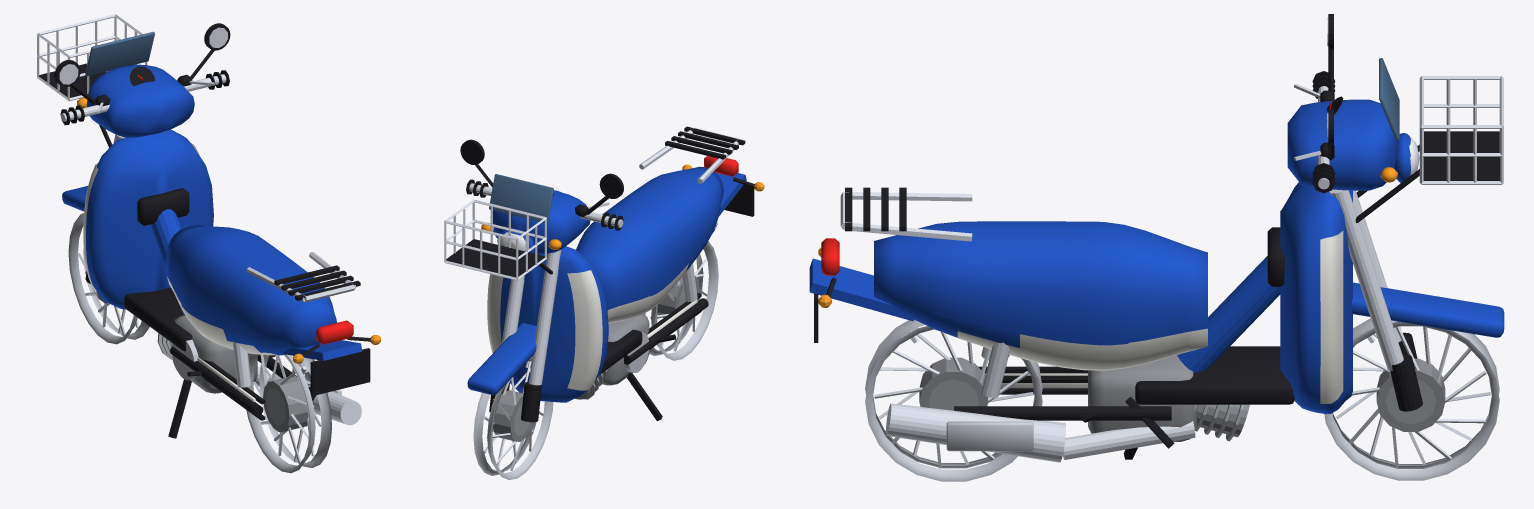
Rendered from veh_kapcai.fbx.
The picture shows the model from 3 angles, left to right: view 1: azimuth 30°, elevation 25°; view 2: azimuth 150°, elevation 25°; view 3: azimuth 270°, elevation 25°; orthographic projection. The views are drawn at different scales.
Parts seen in each view (by area): view 1: Body, Detail, Steering, Rim_R, Var_Basket_a_Front, Rim_F, SteerDetail, Var_Visor_a_Glass; view 2: Body, Steering, Detail, Var_Basket_a_Front, Rim_F, Rim_R, Var_Visor_a_Glass, SteerDetail, HeadLights; view 3: Body, Steering, Detail, Rim_F, Rim_R, Var_Basket_a_Front, SteerDetail, HeadLights, Var_Visor_a_Glass.
Part boxes in pixels (x1,y1,x2,y2): Body: (86,129,362,425); Detail: (83,143,380,438); Steering: (54,23,230,283); Rim_R: (246,353,331,473); Var_Basket_a_Front: (37,14,147,147); Rim_F: (68,213,149,344); SteerDetail: (59,27,229,125); Var_Visor_a_Glass: (85,31,154,76); Body: (500,166,746,402); Steering: (460,139,623,422); Detail: (487,126,764,420); Var_Basket_a_Front: (444,199,552,280); Rim_F: (473,357,553,479); Rim_R: (643,241,718,360); Var_Visor_a_Glass: (489,174,553,223); SteerDetail: (466,163,623,230); HeadLights: (481,223,561,253); Body: (809,182,1352,462); Steering: (1287,14,1504,411); Detail: (814,187,1343,459); Rim_F: (1324,318,1499,480); Rim_R: (865,319,1042,481); Var_Basket_a_Front: (1355,76,1503,222); SteerDetail: (1294,17,1343,193); HeadLights: (1380,133,1419,183); Var_Visor_a_Glass: (1379,58,1399,140).
Size of what is drawn, in the model's own units: 0.72 by 1.31 by 1.97.
Materials: 1 (1 with a texture image).
